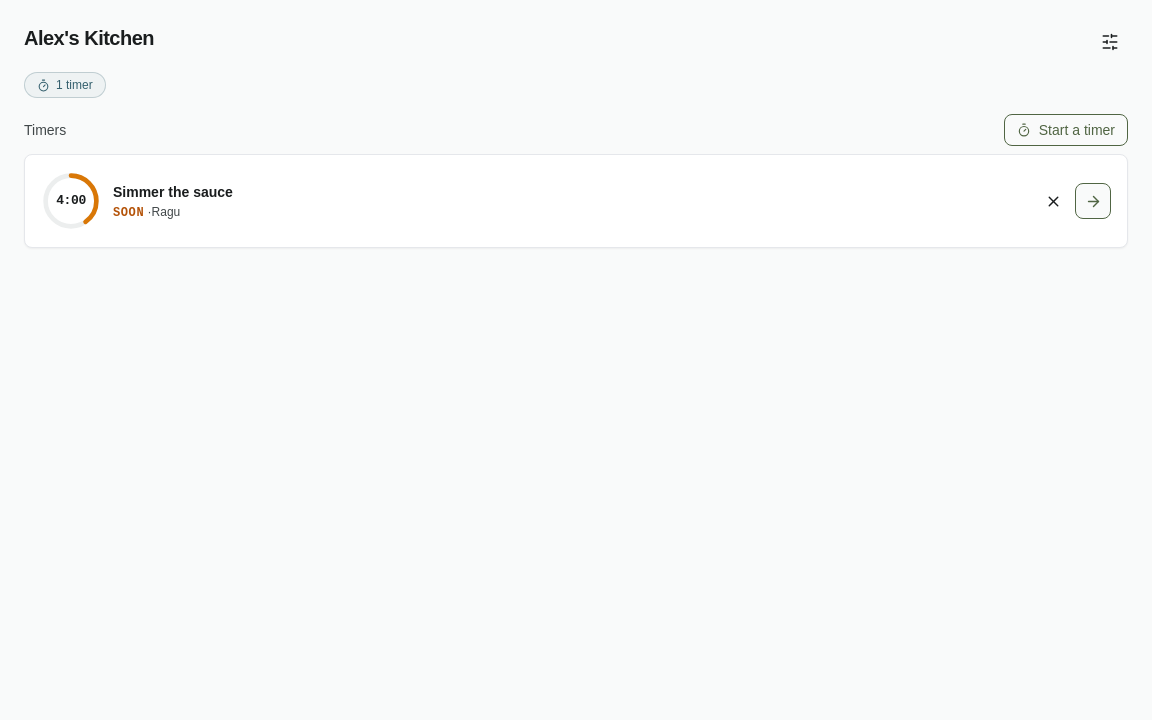
MinePage — the workbench › restores every default when Reset is pressed
Click the button with test id "mine-customize-open" at (1110, 42), box [1092,24,1128,60]
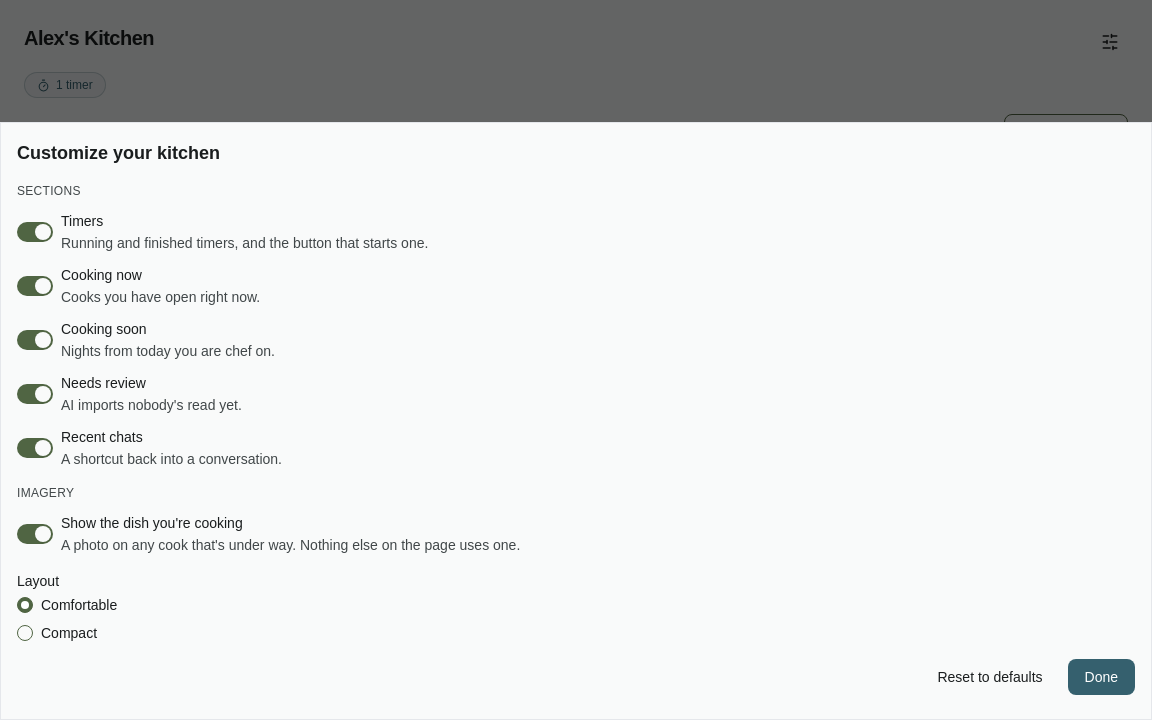
Click the 1st switch at (35, 232), box [17,222,53,242]
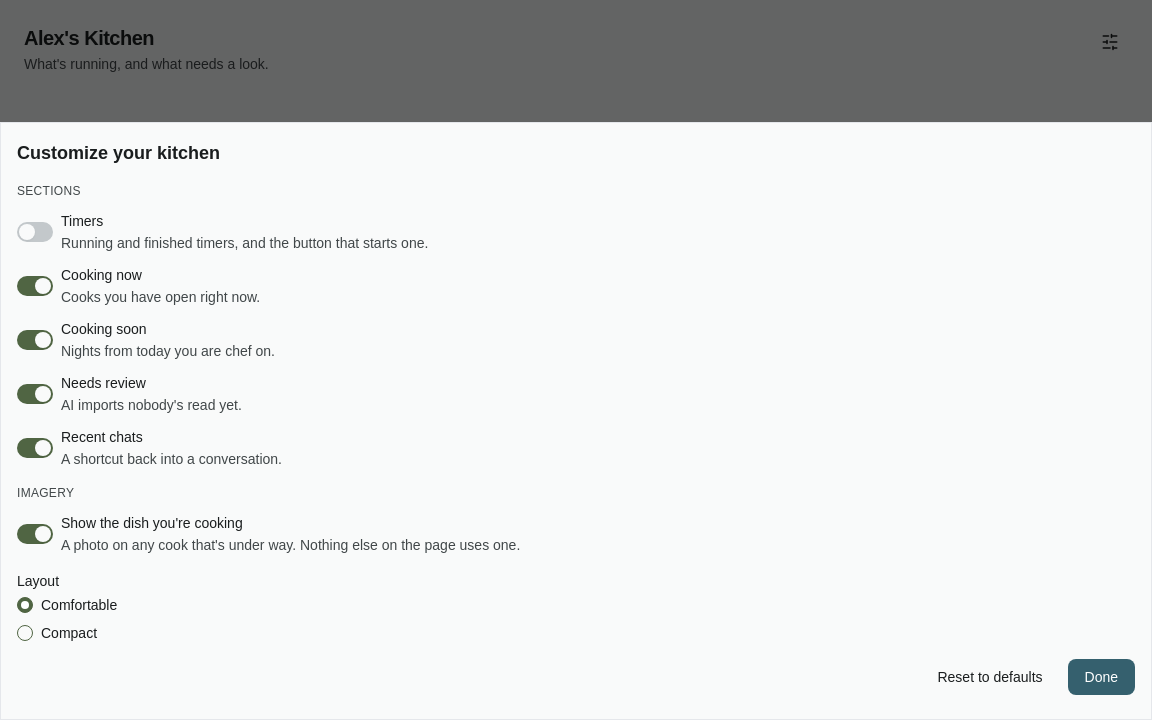
Check: the element with test id "mine-timers" is gone
Click the button with test id "mine-customize-reset" at (990, 677), box [920,659,1060,695]
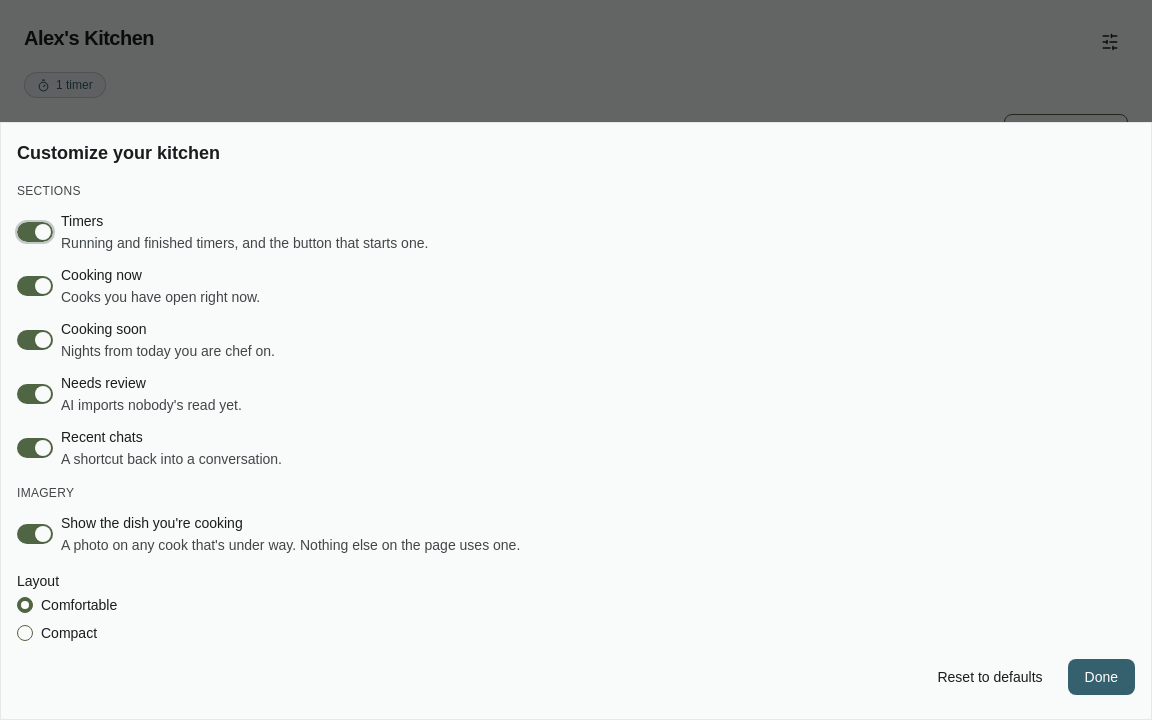
Check: the element with test id "mine-timers" is shown, box [24,114,1128,248]
